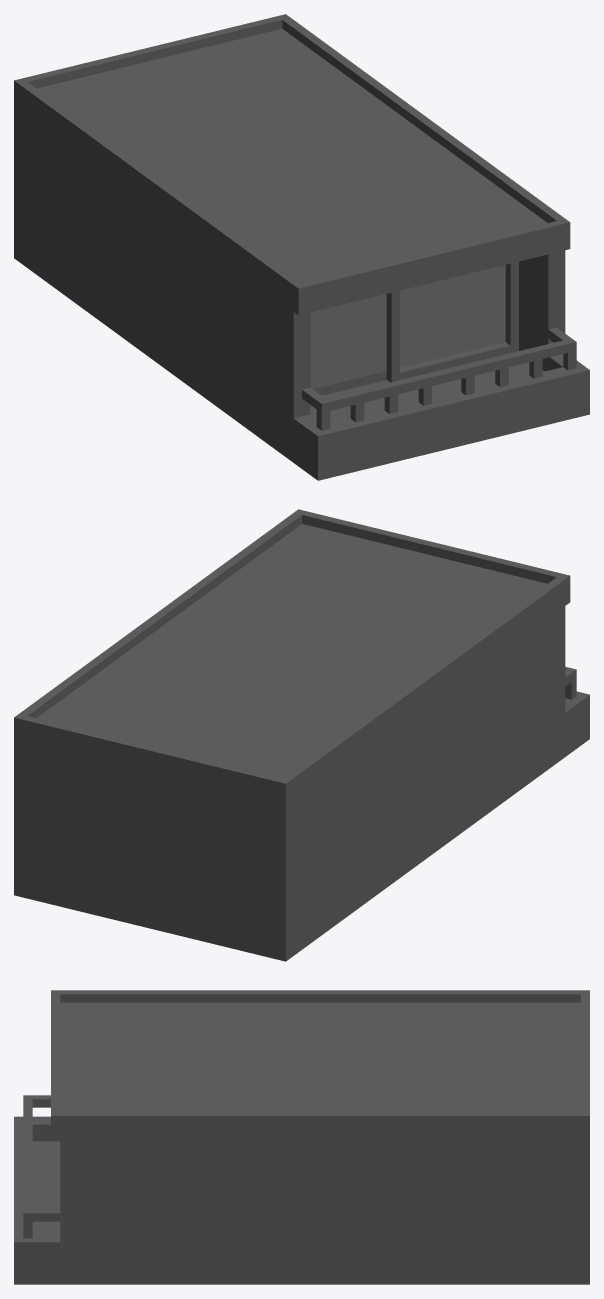
The model's file is bld_story02.obj.
The picture shows the model from 3 angles, top to bottom: view 1: azimuth 30°, elevation 25°; view 2: azimuth 150°, elevation 25°; view 3: azimuth 270°, elevation 25°; orthographic projection. The views are drawn at different scales.
Size of the model in its own units: 32 by 20 by 62.
